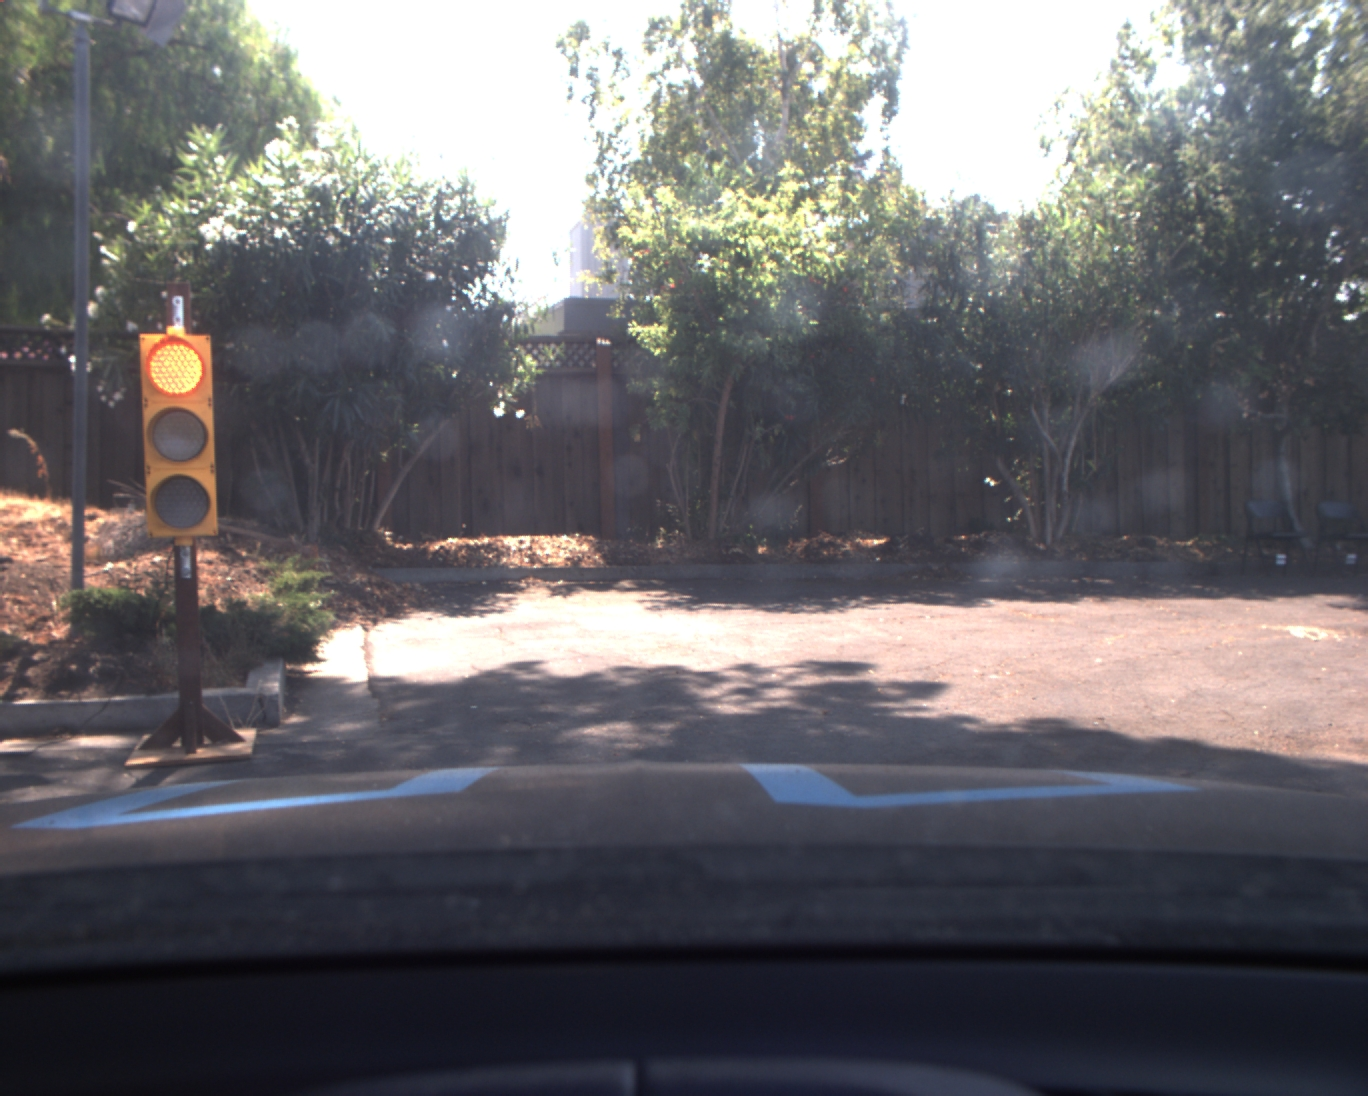red: (140, 331, 221, 542)
